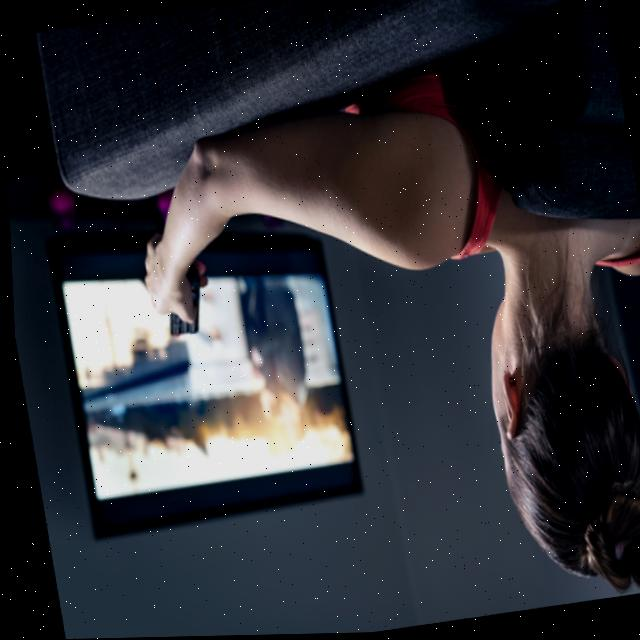tv-person: (5, 19, 640, 640)
